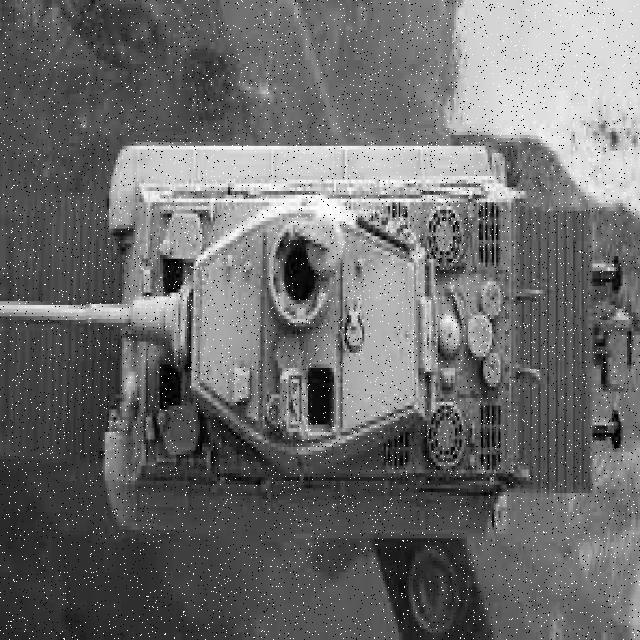MIL_MBT: (86, 136, 529, 537)
